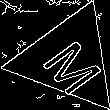M_NE: (31, 26, 105, 93)
